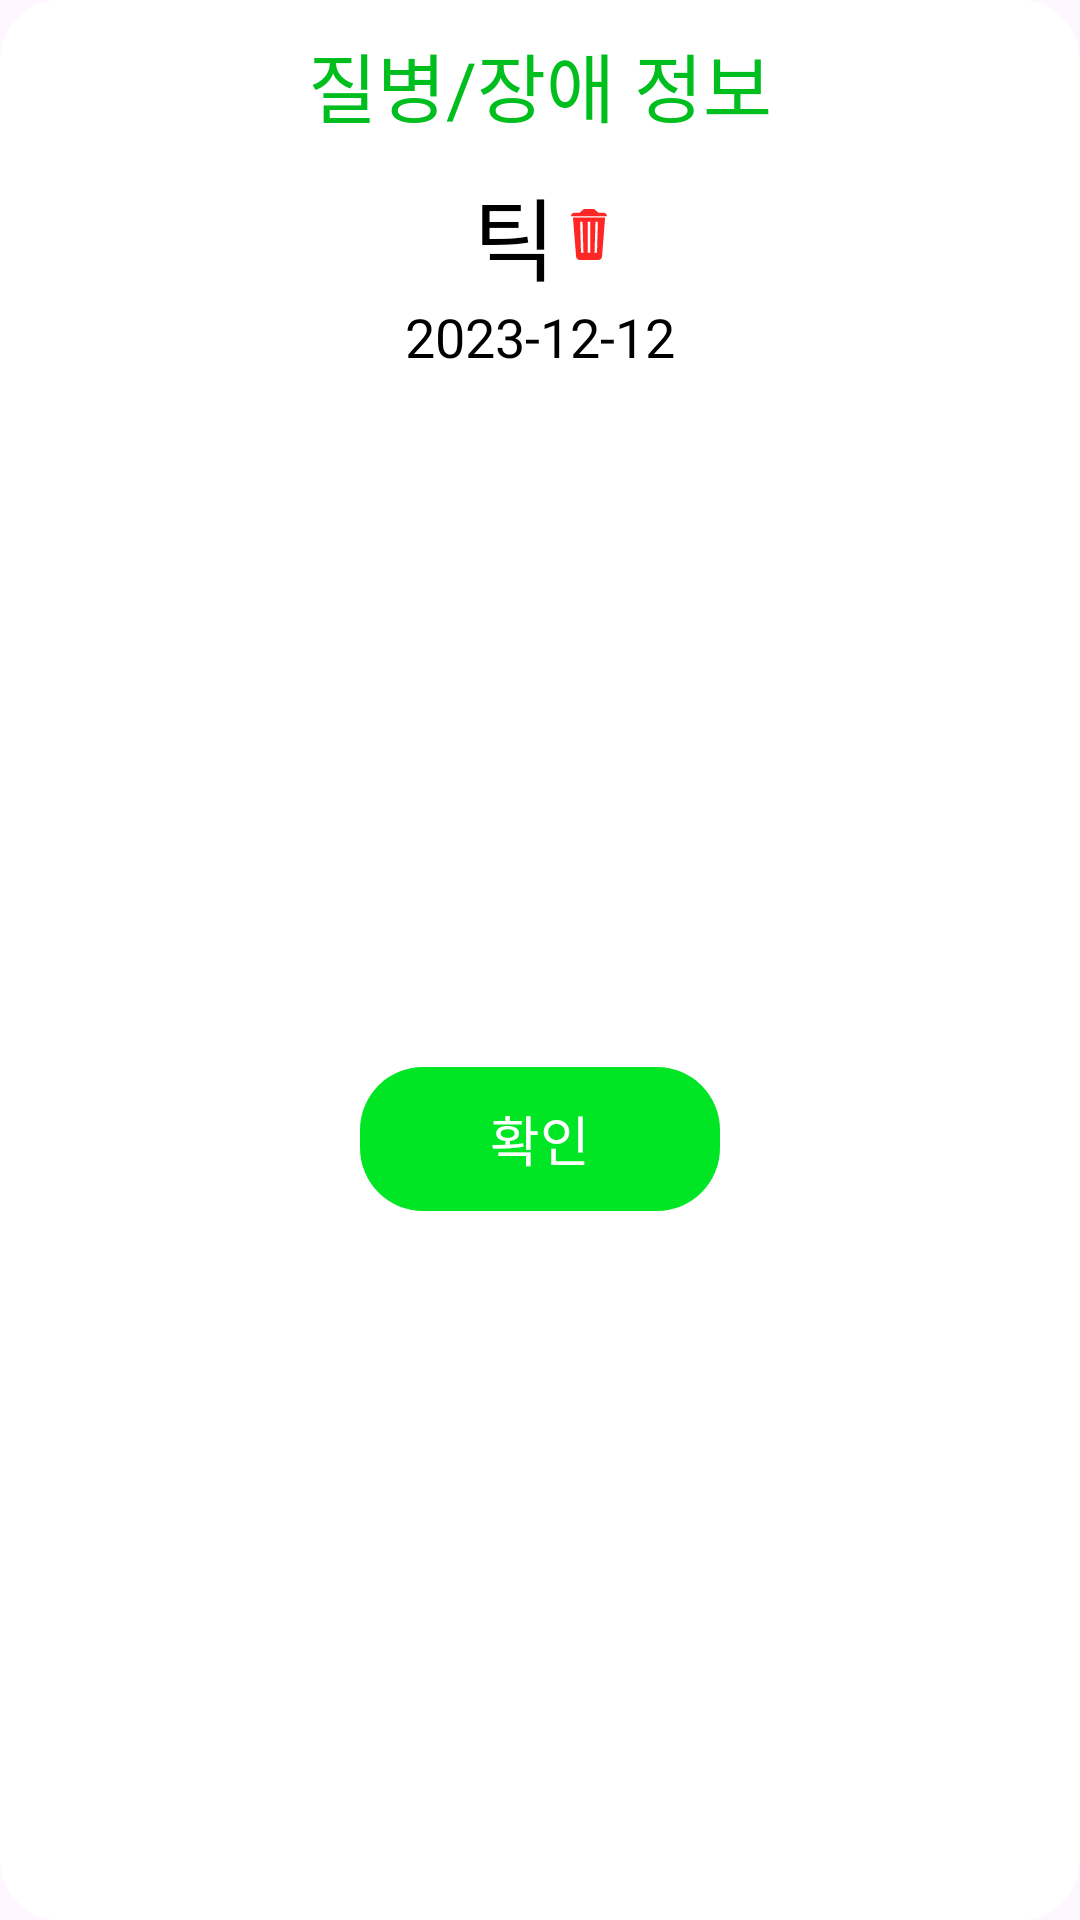

Icons on this 1080 x 1920 Android screen, each with the point to tap as [x,y]:
delete: [589,234]
